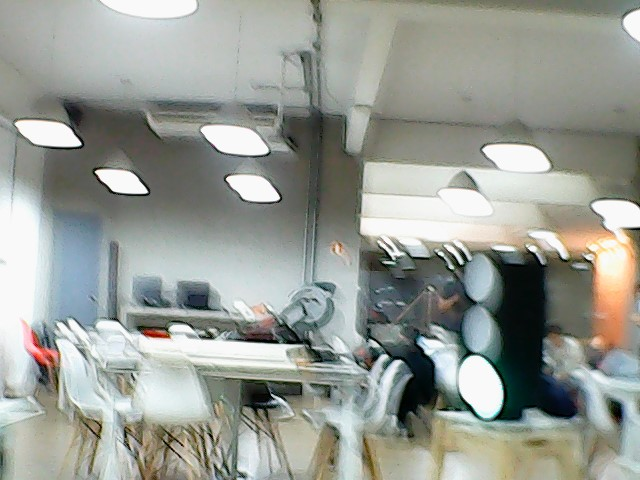verde: (448, 244, 547, 425)
